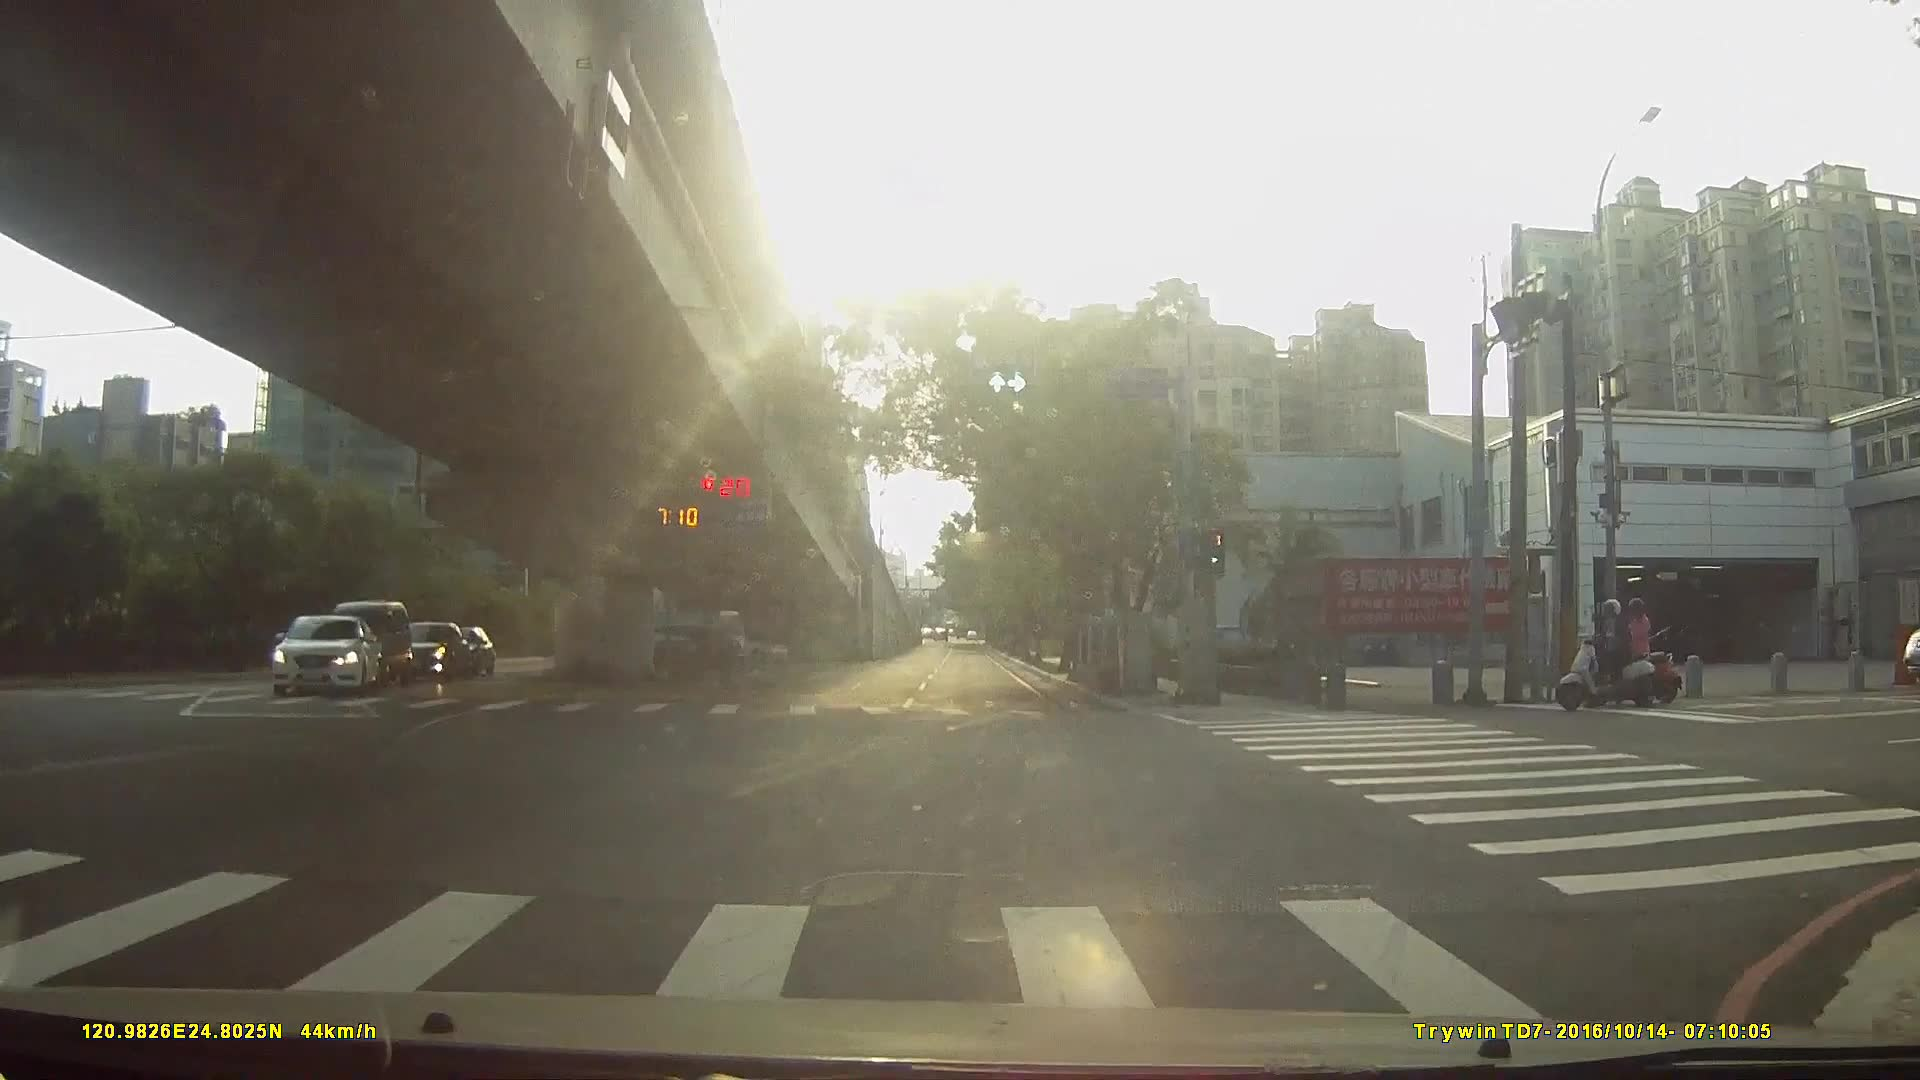rider: (1552, 596, 1660, 709)
vehicle: (259, 613, 375, 699), (319, 598, 404, 689), (618, 621, 742, 681), (384, 618, 470, 685)
